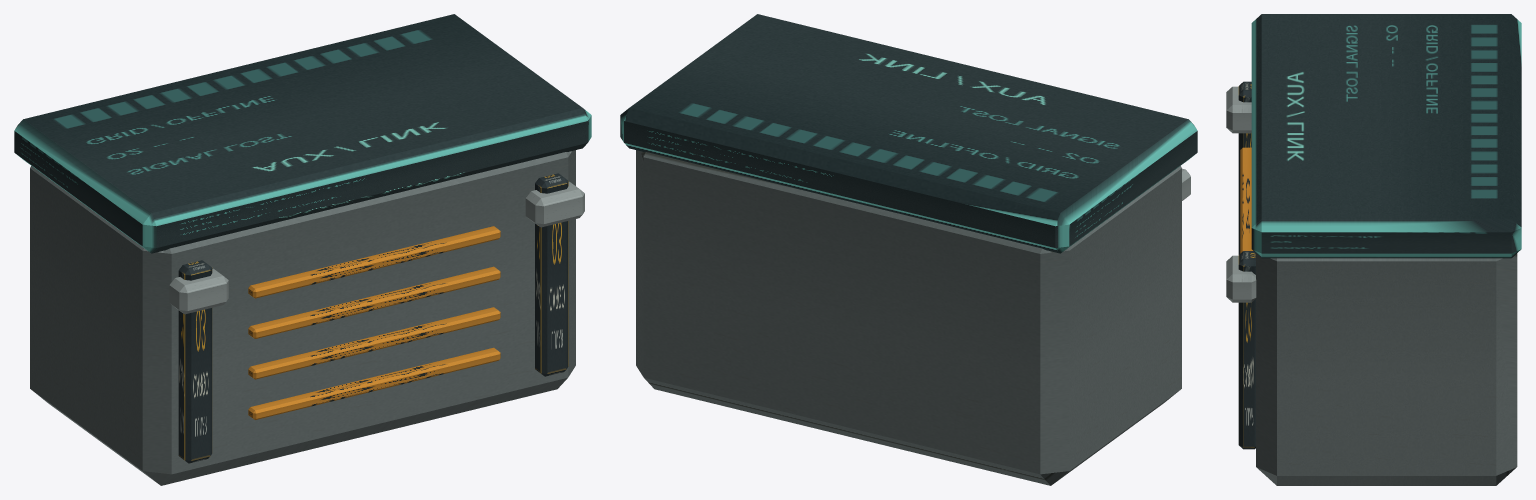
File: cargo_container_LOD1.obj
3 views of the same model, side by side, from view 1: azimuth 30°, elevation 25°; view 2: azimuth 150°, elevation 25°; view 3: azimuth 270°, elevation 25° (orthographic). The views are drawn at different scales.
Parts seen in each view (by area): view 1: L02_cargo_container_LOD1; view 2: L02_cargo_container_LOD1; view 3: L02_cargo_container_LOD1.
Part boxes in pixels (x1,y1,x2,y2): L02_cargo_container_LOD1: (14, 14, 591, 485); L02_cargo_container_LOD1: (620, 14, 1197, 485); L02_cargo_container_LOD1: (1226, 14, 1521, 485).
Size of the model in its own units: 2.9 by 1.75 by 1.69.
1 material, 1 textured.
